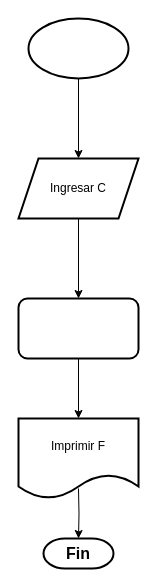
Some shapes in this 156 by 586 pixel diagram are drawn without their labels. Here are the shapes that lost their labels. From the top down, the centre of each, then its label:
the point at 78,48: Inicio
the point at 78,328: F= (C * 9/5) + 32
